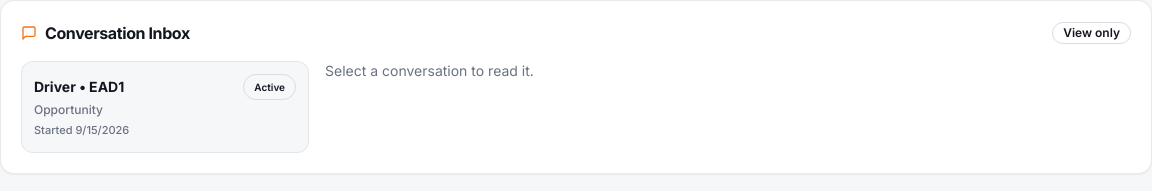
Test case: CF-1B / RecruiterConversationInbox › 4a view-only recruiter reads messages but gets no mutation controls
Click the button with test id "conversation-thread-item": (79, 86) [21,61,309,153]
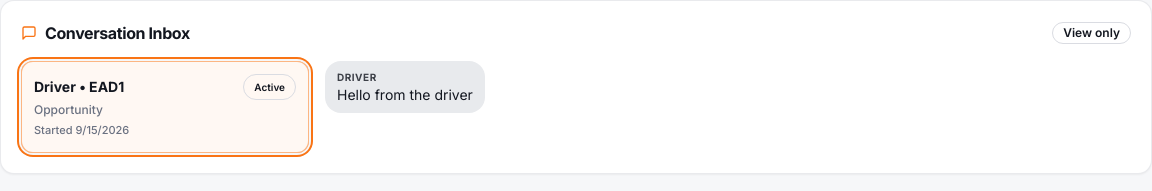
Expected: the text "View only" is shown, [1052,22,1131,44]
Expected: the text "Hello from the driver" is shown, [337,85,473,105]
